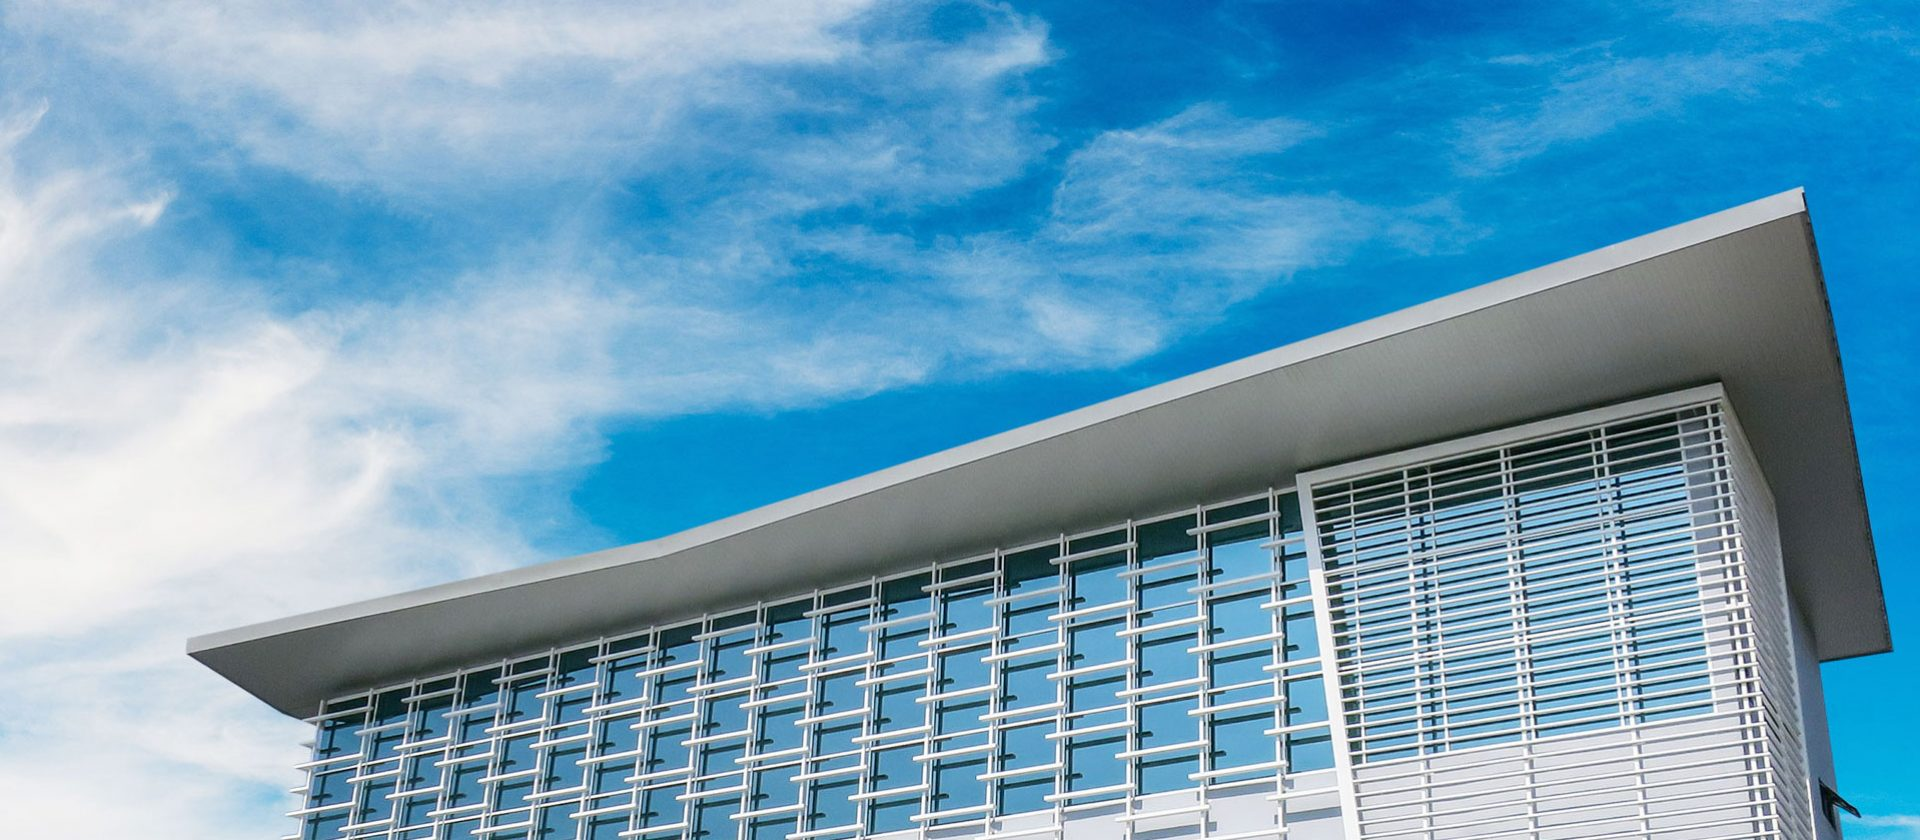Church: (131, 178, 1822, 803)
